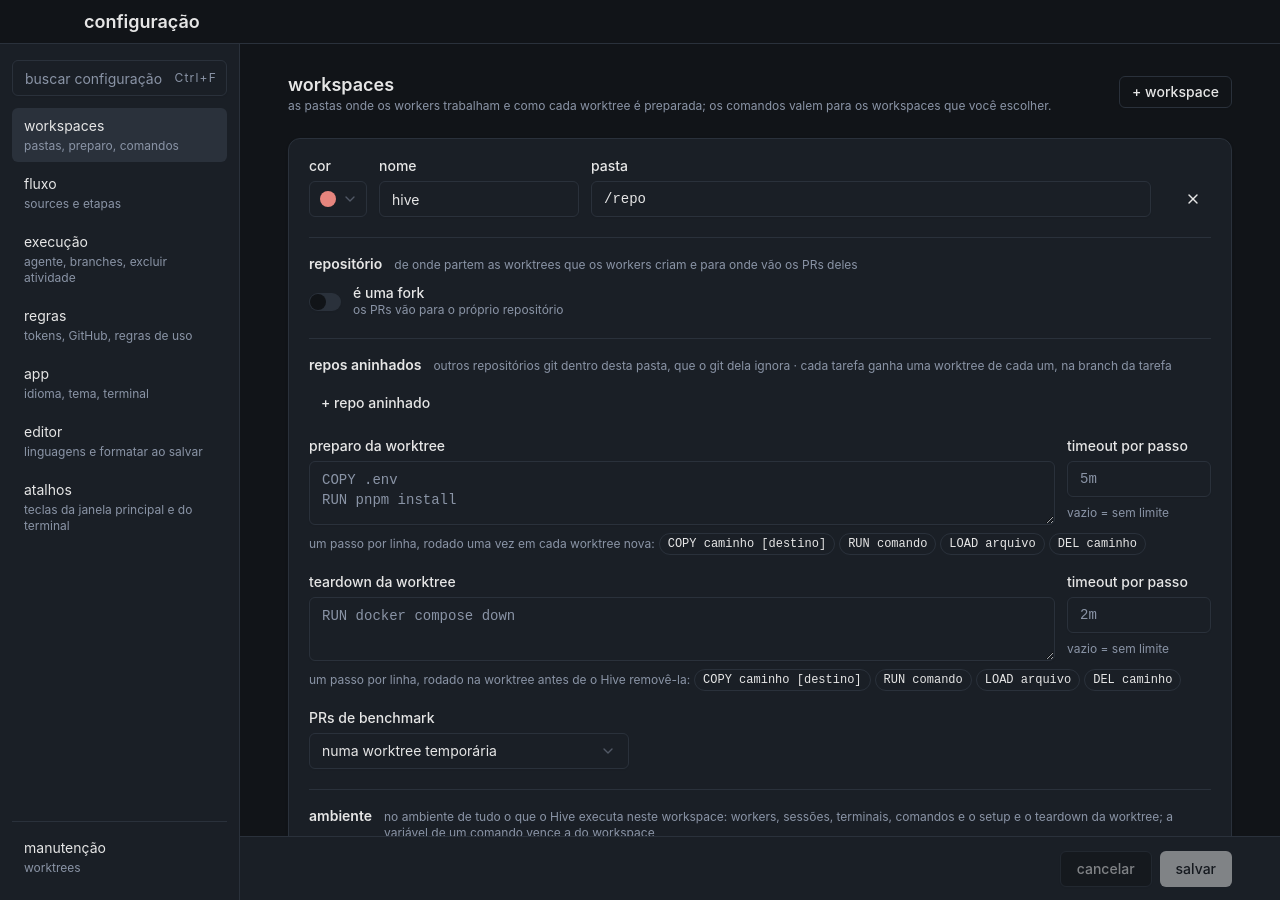
it: the list filters by name, extension and server, accents aside; the toggle narrows to installed and attention; a row summarises and flags (#780)
Click the button "editor linguagens e formatar ao salvar": (120, 441) [12,414,227,468]
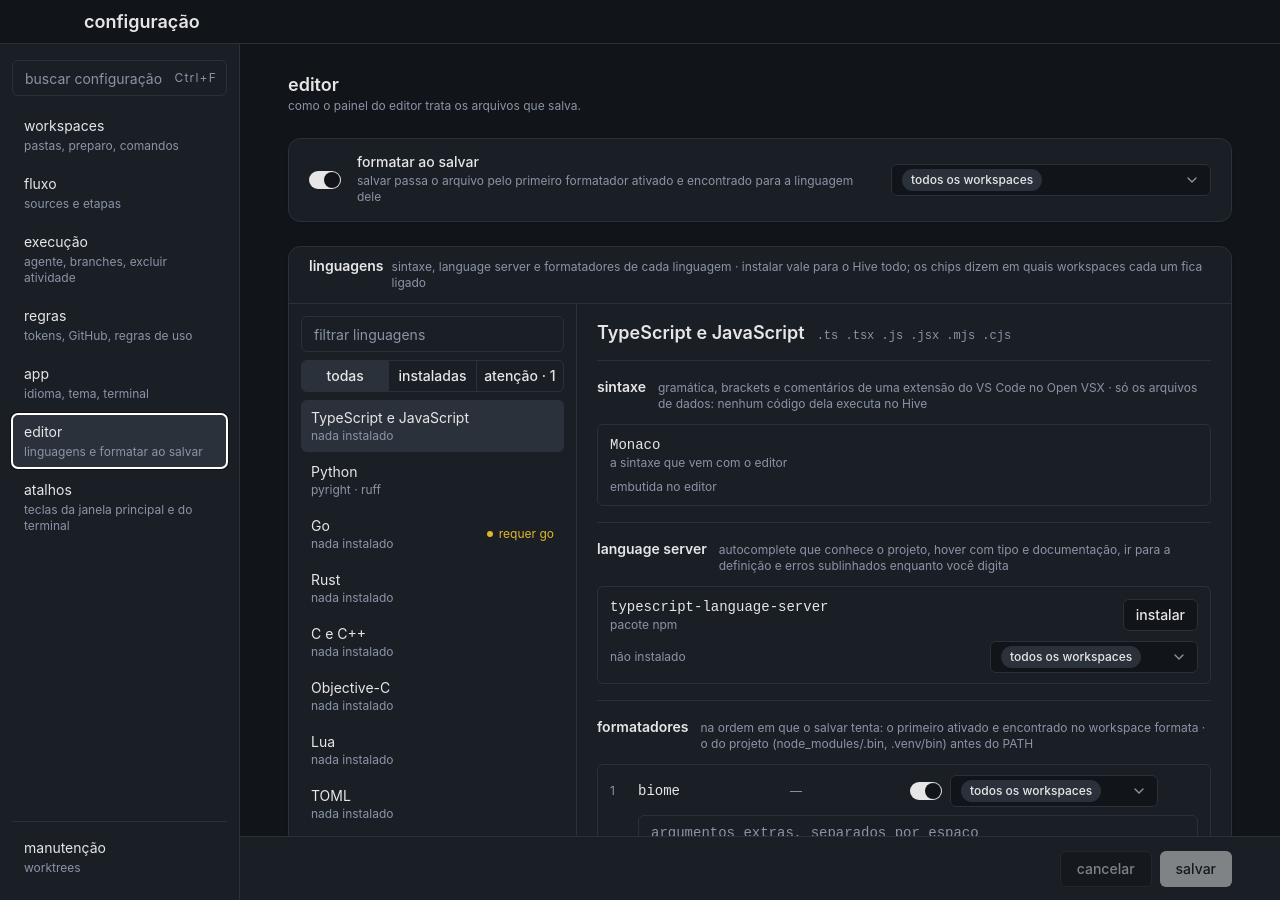
expect the text "pyright · ruff" is shown: met, box [311,482,381,497]
expect the text "requer go" is shown: met, box [487,526,554,542]
In the search field labelled "filtrar linguagens": (432, 334) [301,316,564,352], type ".rs"
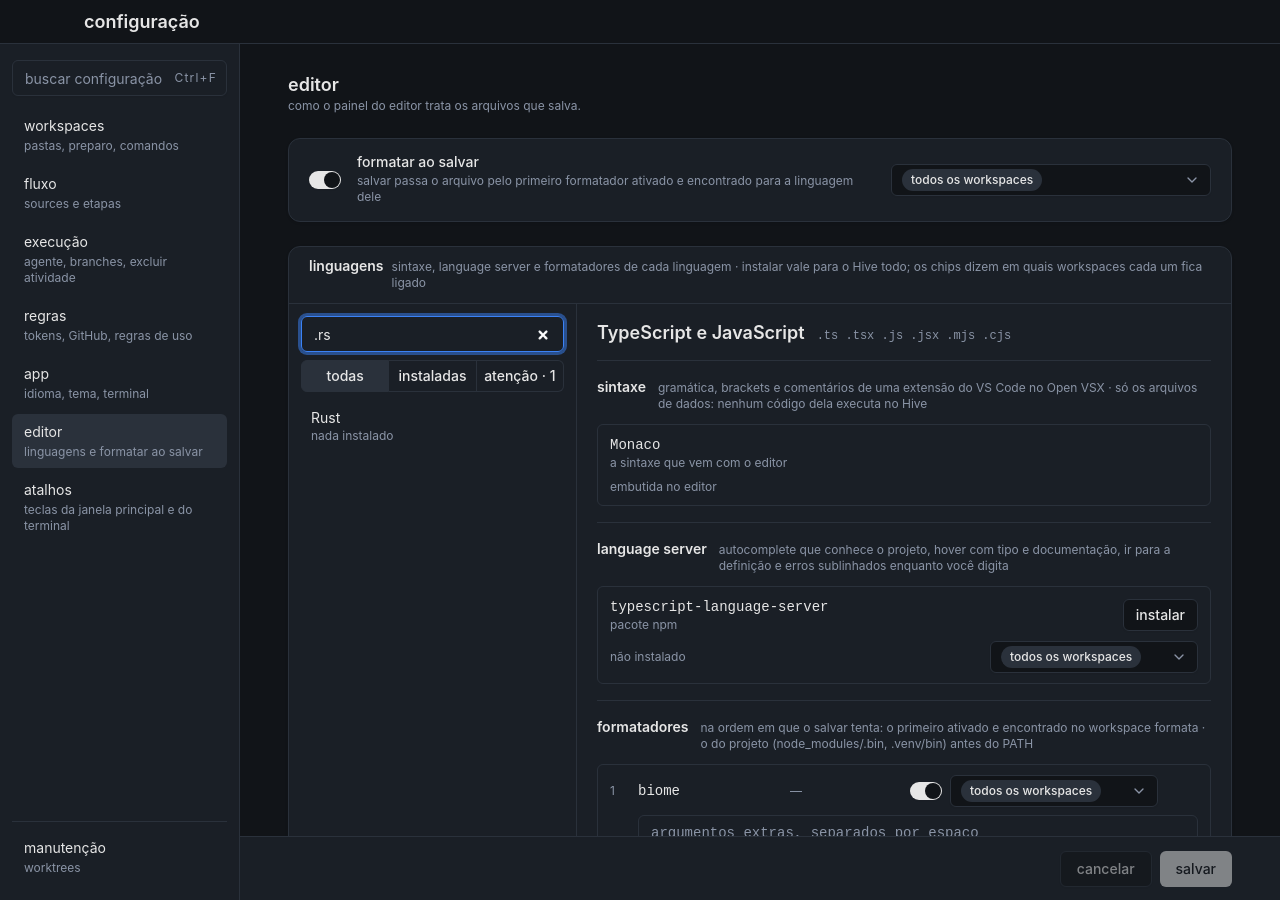
Replace the text in the search field named "filtrar linguagens" with "PYRÍGHT": (432, 334) [301,316,564,352]
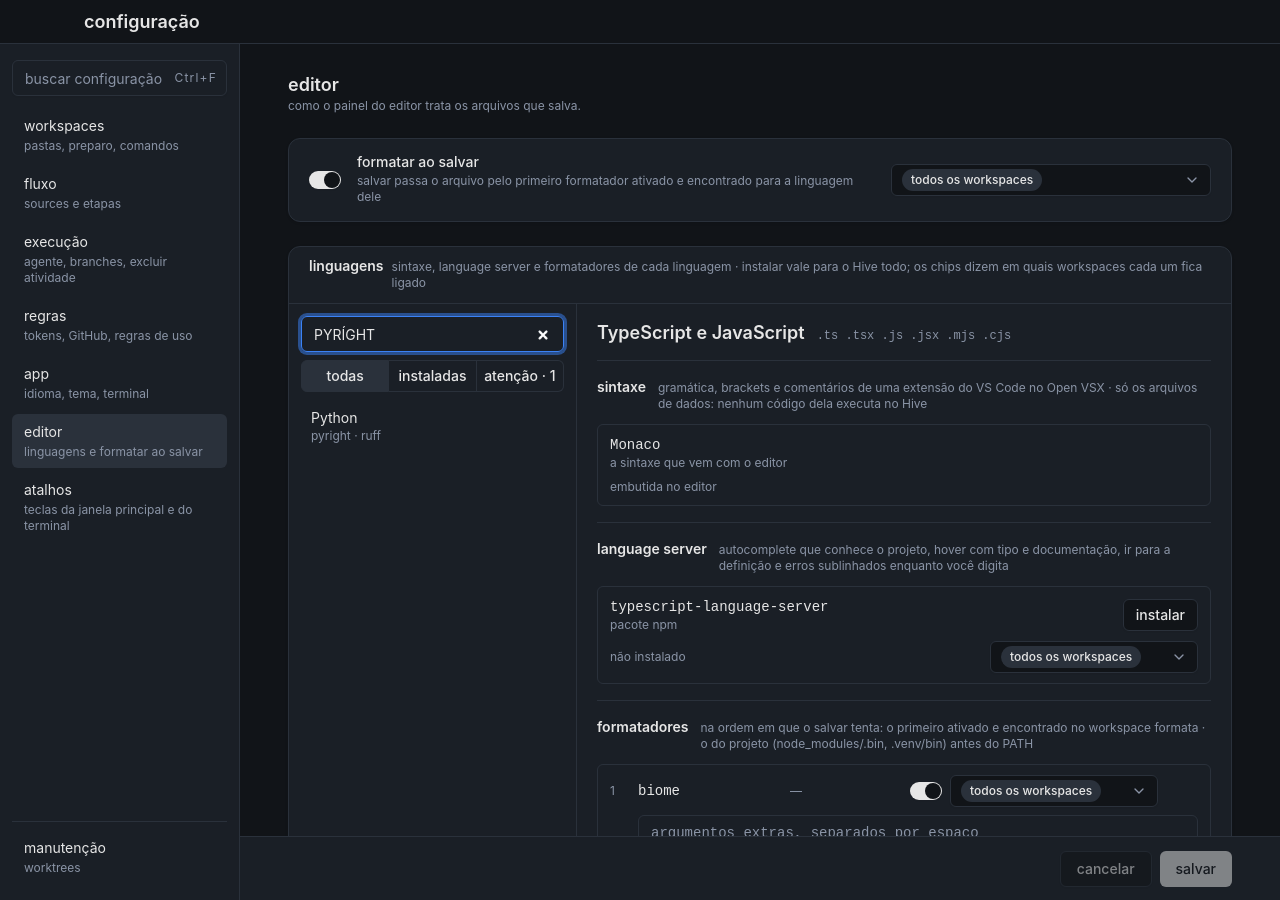
Clear the search field named "filtrar linguagens": (432, 334) [301,316,564,352]
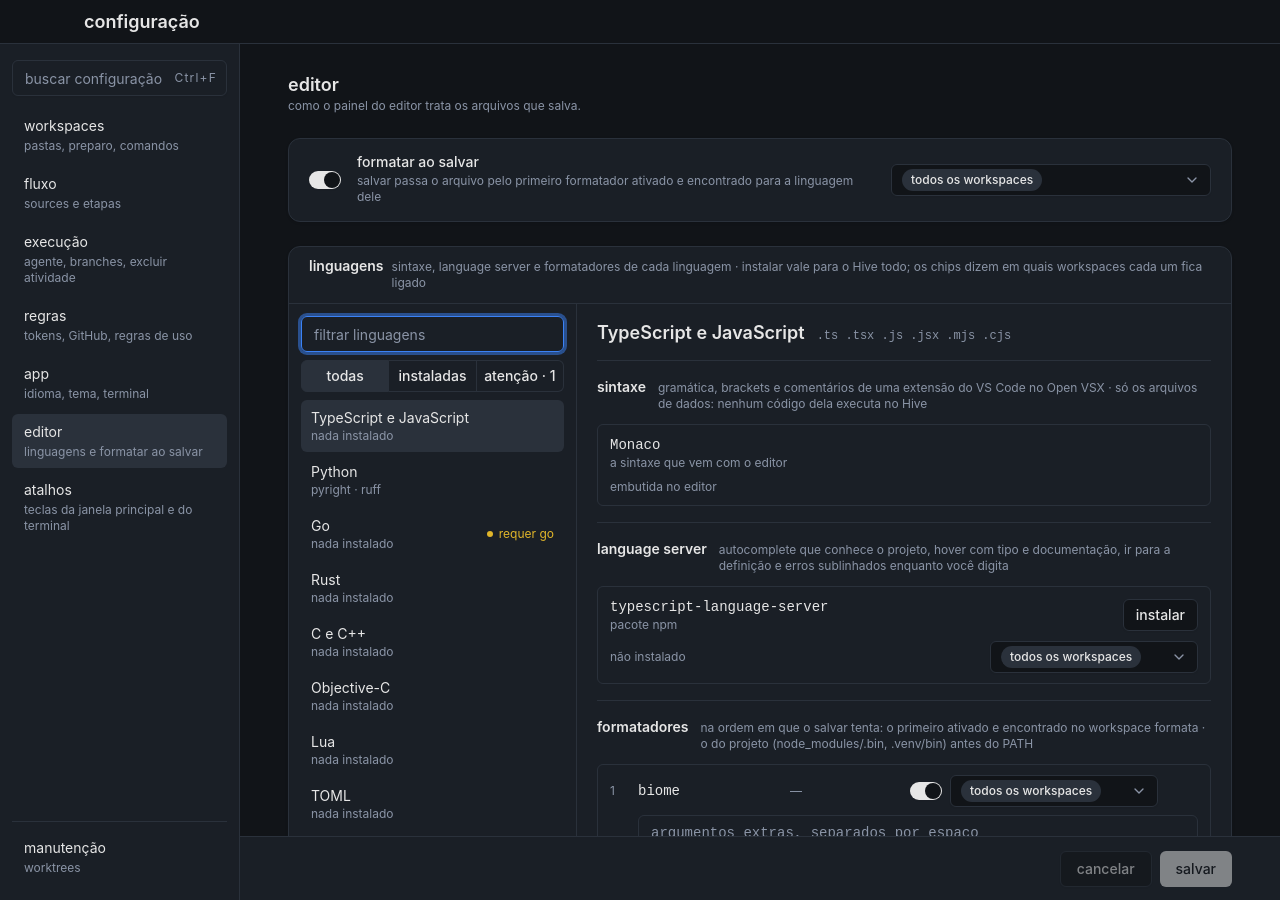
Click the radio button labelled "atenção · 1": (520, 376) [477,360,564,392]
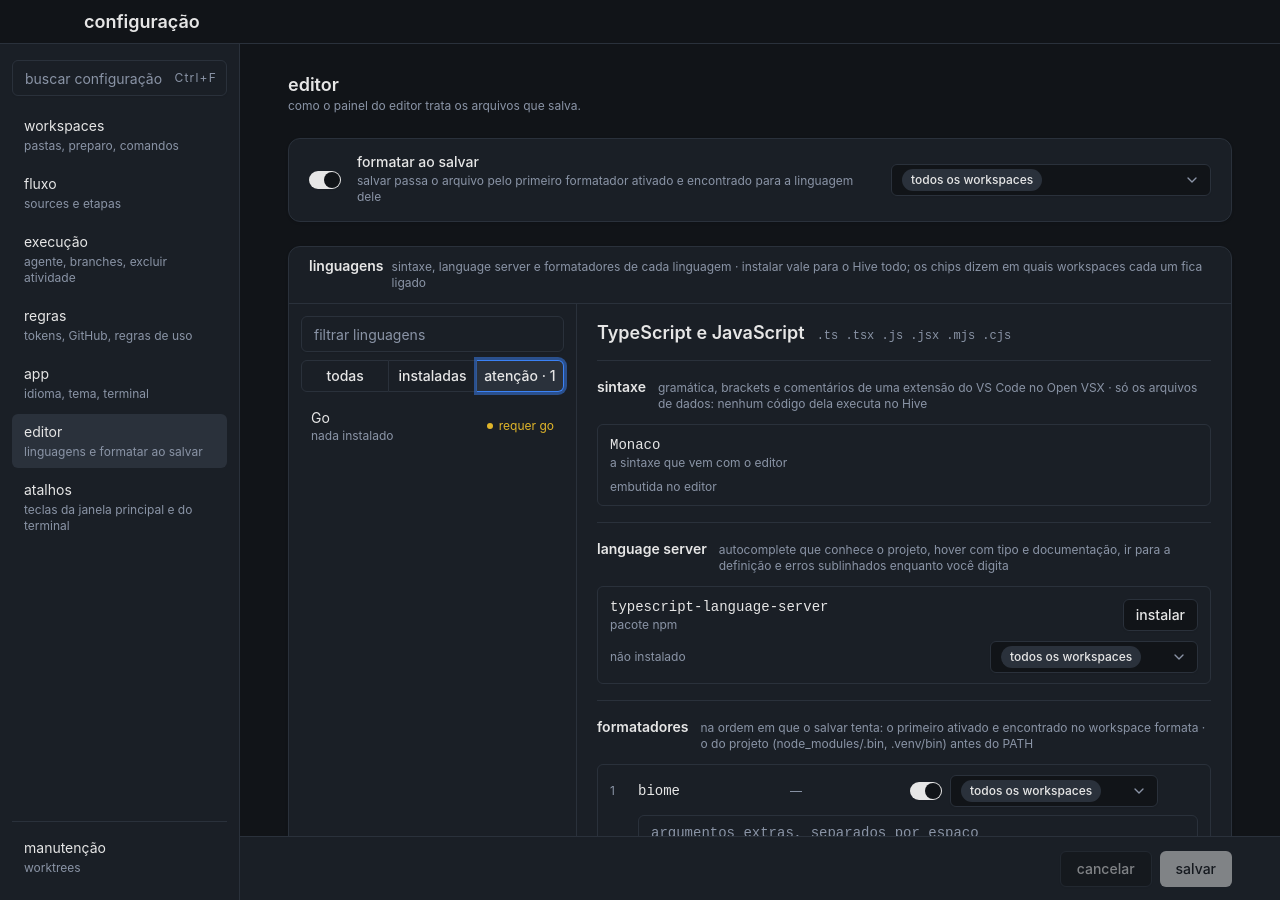
Click the radio button labelled "instaladas": (433, 376) [389,360,477,392]
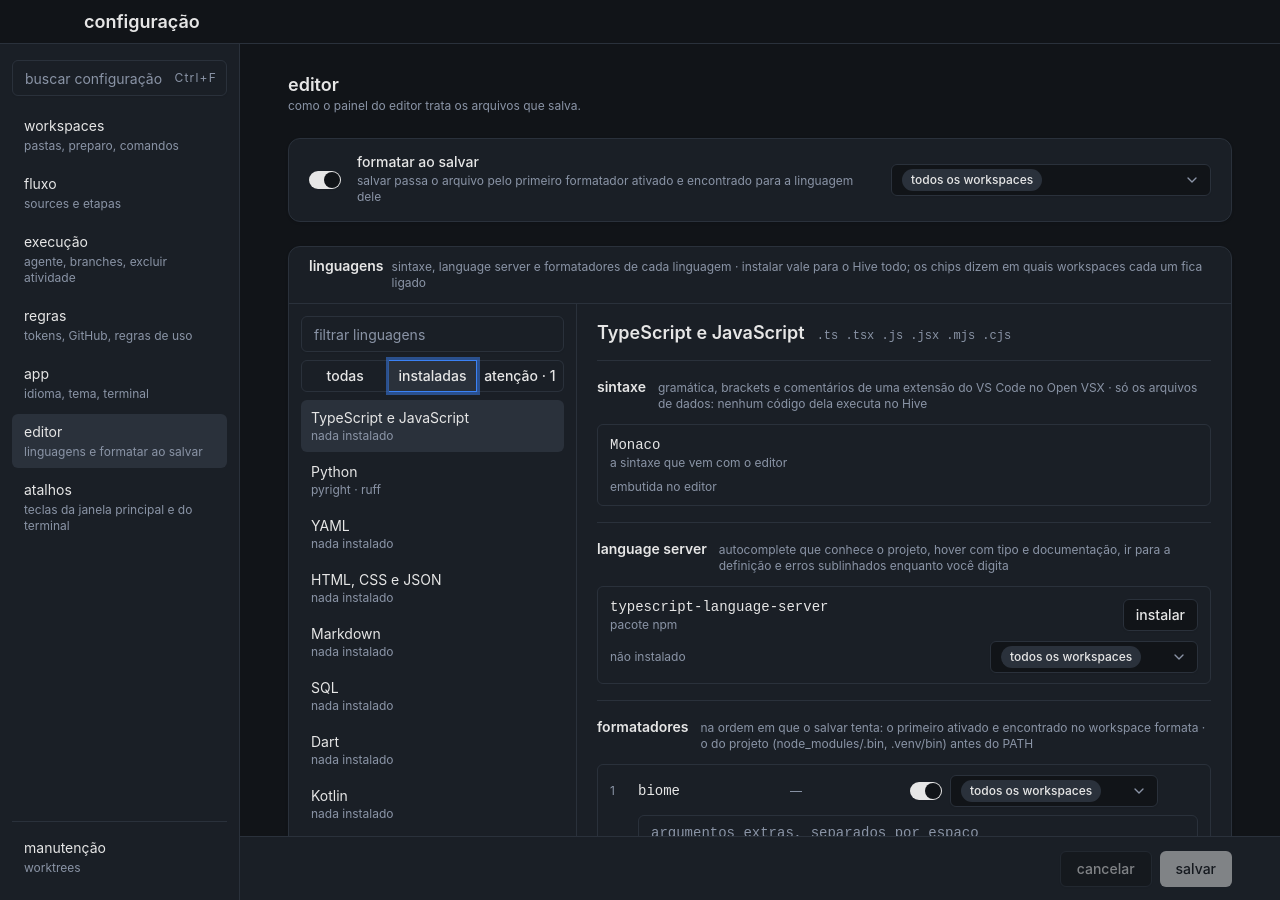
expect the text "Go" is not shown: met
expect the text "Python" is shown: met, box [311,463,358,480]
